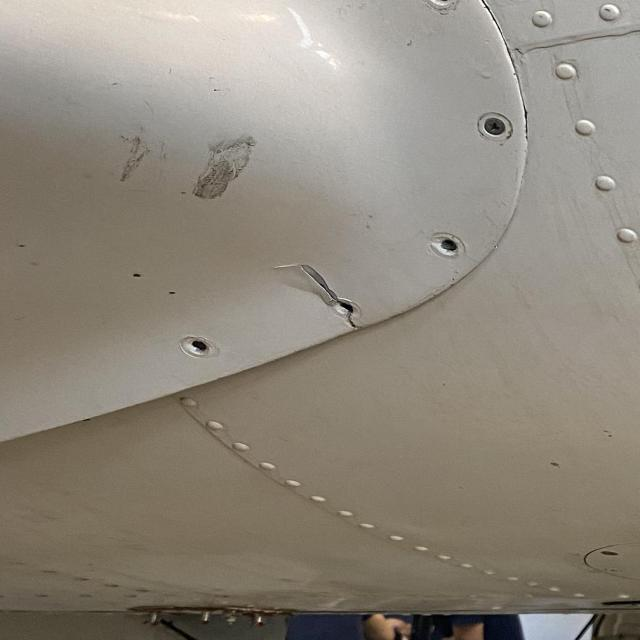Fastener Damage: (428, 233, 468, 261), (177, 337, 219, 359), (413, 0, 459, 19), (328, 295, 360, 319)
Rupture: (275, 256, 379, 346)
